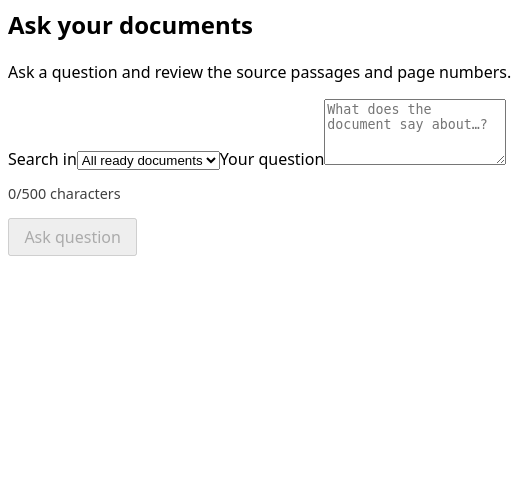
Scenario: AskQuestion › shows an answer with its source filename, page, and excerpt
The width and height of the screenshot is (528, 482).
Type "How are citations preserved?" into the text box labelled "Your question" at (415,132), box x1=324 y1=99 x2=506 y2=165
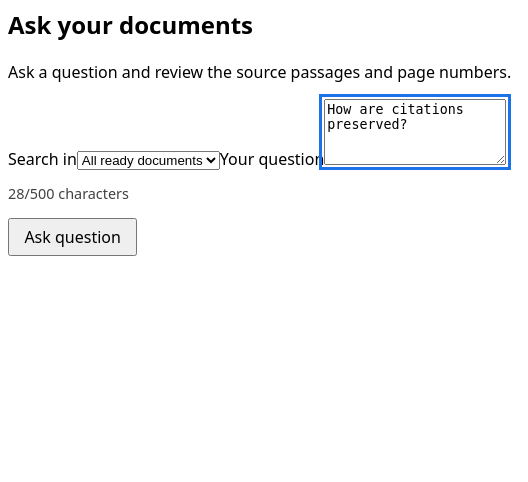
Click the button "Ask question" at (73,237), box x1=8 y1=218 x2=137 y2=256
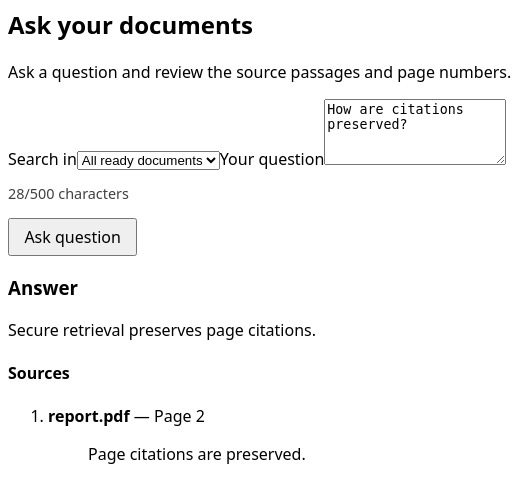
Expected: the text "Secure retrieval preserves page citations." is shown, x1=8 y1=319 x2=316 y2=341
Expected: the text "report.pdf" is shown, x1=48 y1=405 x2=130 y2=427
Expected: the text "Page citations are preserved." is shown, x1=88 y1=443 x2=306 y2=465
